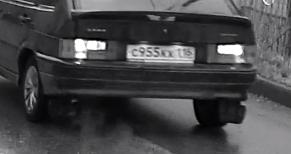license-plateSW: (126, 43, 197, 62)
